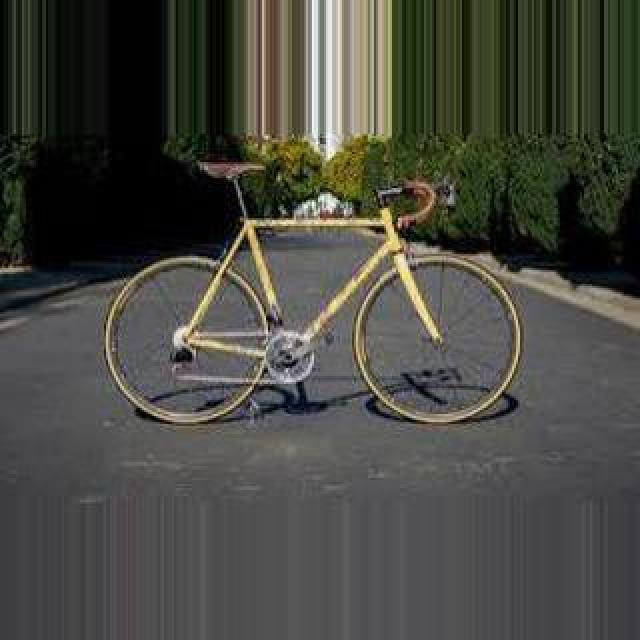Person: (102, 167, 518, 425)
